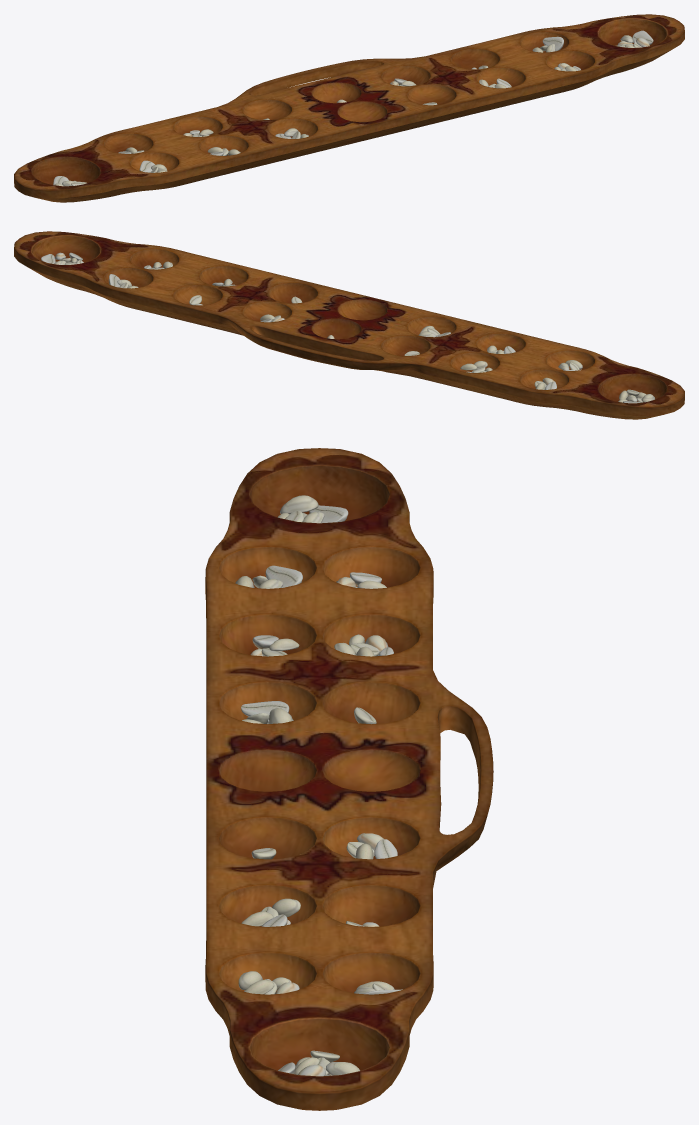
The model's file is sungka_board_02_1k.gltf.
3 views of the same model, one above another, from view 1: azimuth 30°, elevation 25°; view 2: azimuth 150°, elevation 25°; view 3: azimuth 270°, elevation 25° (orthographic). The views are drawn at different scales.
Parts seen in each view (by area): view 1: sungka_board_02, sungka_board_02_shells; view 2: sungka_board_02, sungka_board_02_shells; view 3: sungka_board_02, sungka_board_02_shells.
Boxes of the visible parts, left/top/right/bottom form: sungka_board_02: left=14, top=14, right=684, bottom=202; sungka_board_02_shells: left=53, top=30, right=653, bottom=186; sungka_board_02: left=14, top=231, right=684, bottom=419; sungka_board_02_shells: left=41, top=252, right=654, bottom=403; sungka_board_02: left=205, top=448, right=493, bottom=1110; sungka_board_02_shells: left=235, top=495, right=402, bottom=1076.
Bounding box in the file's own units: 0.9317 × 0.0258 × 0.1757.
Materials: 1 (1 with a texture image).
